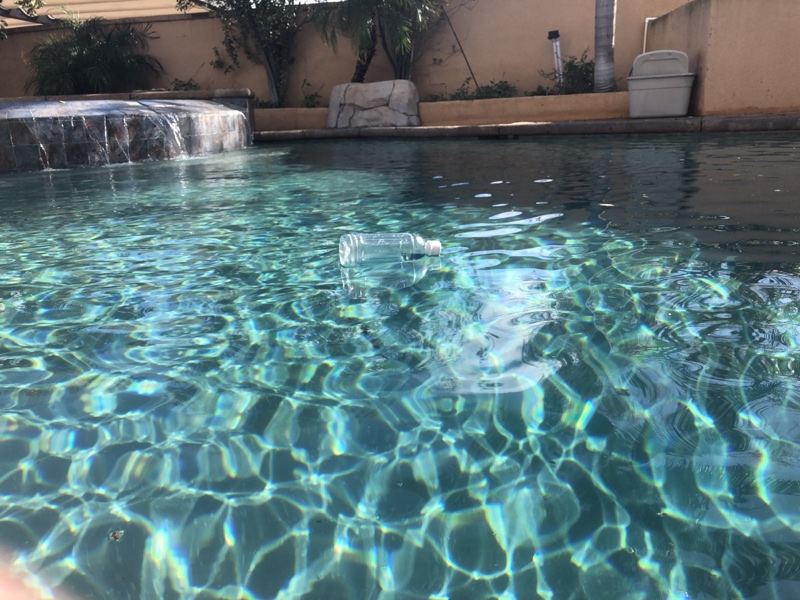Plastic Bottle: (335, 227, 446, 270)
